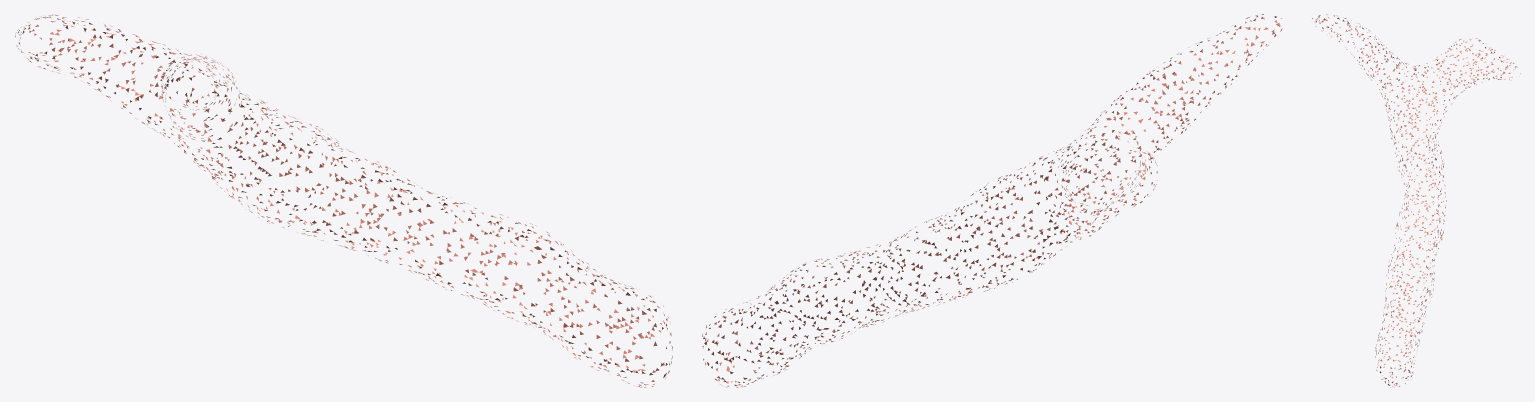
File: morph_002.glb
The picture shows the model from 3 angles, left to right: view 1: azimuth 30°, elevation 25°; view 2: azimuth 150°, elevation 25°; view 3: azimuth 270°, elevation 25°; orthographic projection. The views are drawn at different scales.
Bounding box in the file's own units: 96.7 × 79.38 × 61.27.
